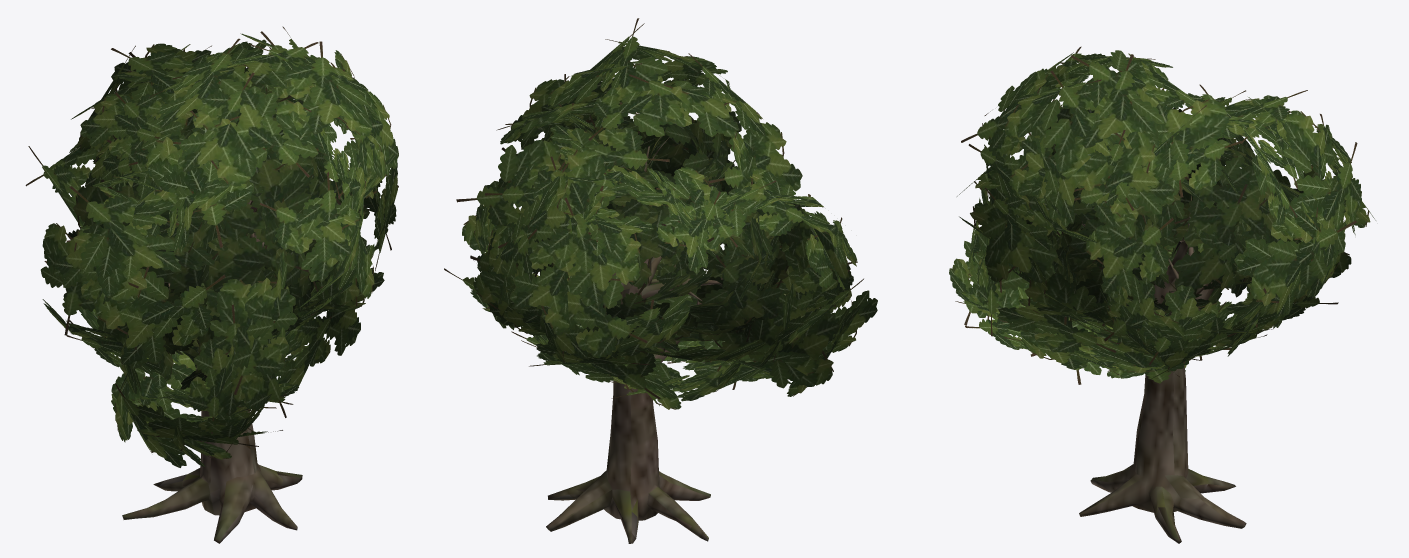
Rendered from tree_oak_lod1.glb.
3 renders of one model, left to right at view 1: azimuth 30°, elevation 25°; view 2: azimuth 150°, elevation 25°; view 3: azimuth 270°, elevation 25°, orthographic. The views are drawn at different scales.
Parts seen in each view (by area): view 1: tree_oak_lod1; view 2: tree_oak_lod1; view 3: tree_oak_lod1.
Boxes of the visible parts, left/top/right/bottom form: tree_oak_lod1: left=25, top=26, right=398, bottom=543; tree_oak_lod1: left=444, top=18, right=877, bottom=543; tree_oak_lod1: left=949, top=46, right=1375, bottom=543.
Size of the model in its own units: 5.24 by 6.03 by 5.34.
2 materials, 2 textured.
